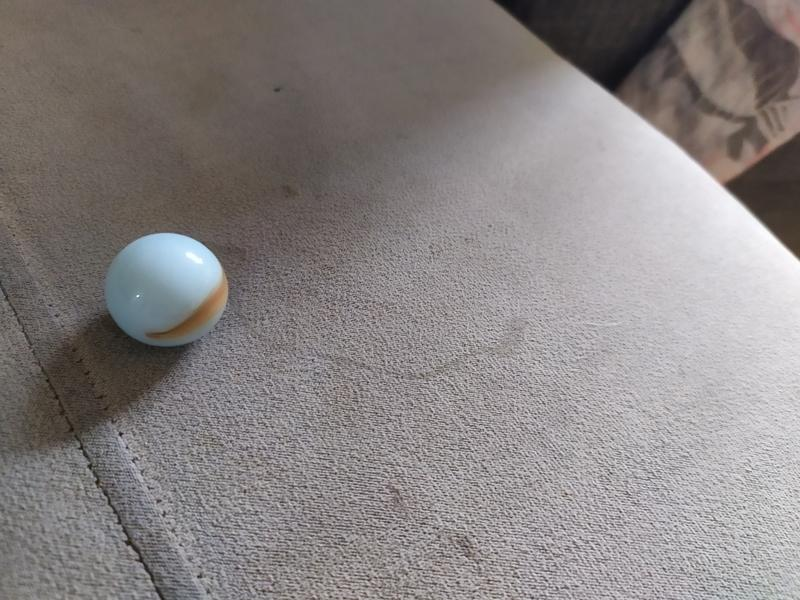Warning: (101, 231, 231, 351)
